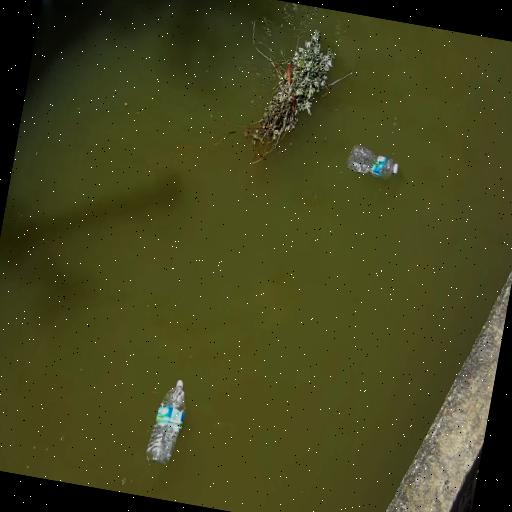plastic: (147, 380, 185, 464), (347, 145, 398, 178)
twig: (245, 21, 334, 158)
